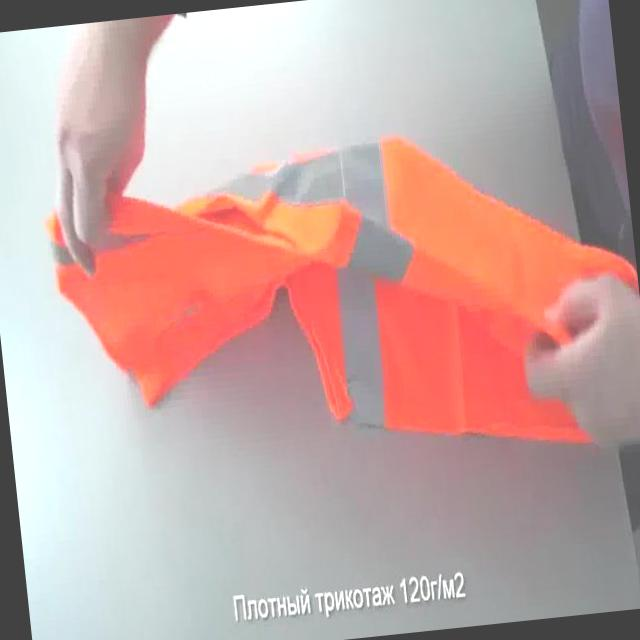vest: (35, 103, 640, 504)
